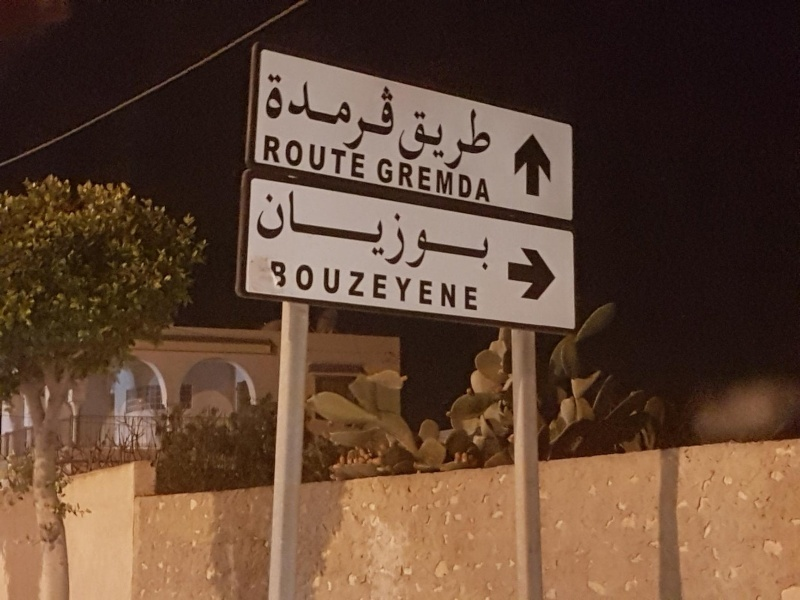text: (257, 183, 272, 283), (273, 183, 288, 283), (289, 183, 304, 283), (305, 183, 320, 283), (321, 183, 336, 283), (337, 183, 352, 283), (353, 183, 368, 283), (369, 183, 384, 283), (385, 183, 400, 283), (401, 183, 416, 283), (417, 183, 432, 283), (433, 183, 448, 283), (449, 183, 464, 283), (465, 183, 480, 283), (273, 67, 288, 158), (289, 67, 304, 158), (305, 67, 320, 158), (321, 67, 336, 158), (337, 67, 352, 158), (353, 67, 368, 158), (369, 67, 384, 158), (385, 67, 400, 158), (481, 183, 491, 283), (417, 110, 432, 176), (433, 110, 448, 176), (449, 110, 464, 176), (465, 110, 480, 176), (481, 110, 496, 176), (465, 261, 481, 312), (273, 261, 288, 312), (289, 261, 304, 312), (305, 261, 320, 312), (321, 261, 336, 312), (337, 261, 352, 312), (353, 261, 368, 312), (369, 261, 384, 312), (385, 261, 400, 312), (401, 261, 416, 312), (417, 261, 432, 312), (433, 261, 448, 312), (449, 261, 464, 312), (401, 67, 409, 158), (273, 134, 288, 180), (289, 134, 304, 180), (305, 134, 320, 180), (321, 134, 336, 180), (337, 134, 352, 180), (385, 157, 400, 203), (401, 157, 416, 203), (417, 157, 432, 203), (433, 157, 448, 203), (449, 157, 464, 203), (465, 157, 480, 203), (406, 110, 416, 176), (353, 134, 367, 180), (481, 157, 491, 203), (267, 67, 272, 158), (265, 134, 272, 180), (377, 157, 384, 203), (255, 183, 256, 283), (271, 261, 272, 312)
